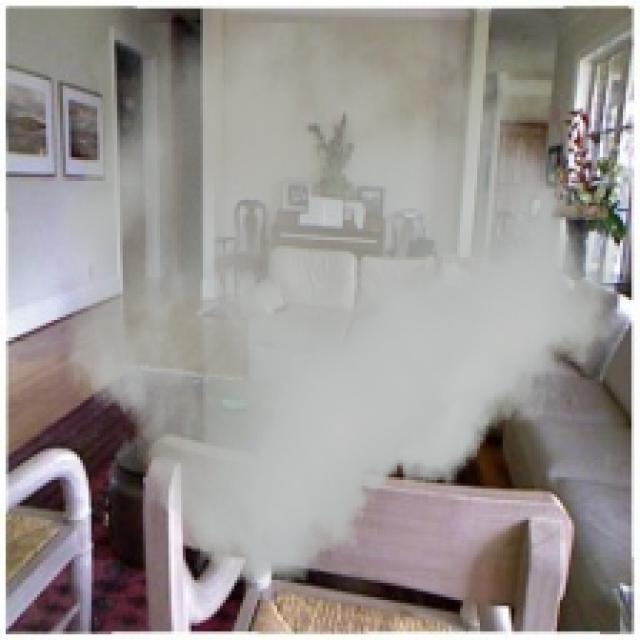Smoke: (57, 23, 614, 583)
